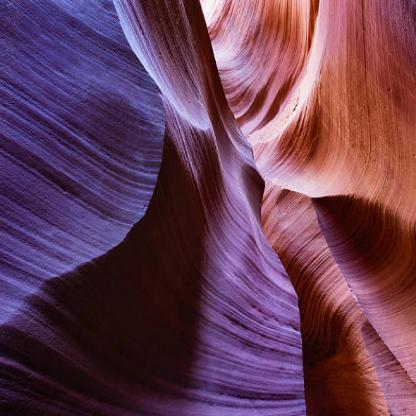Sedimentary_Sandstone: (0, 3, 187, 415), (194, 263, 308, 415)
